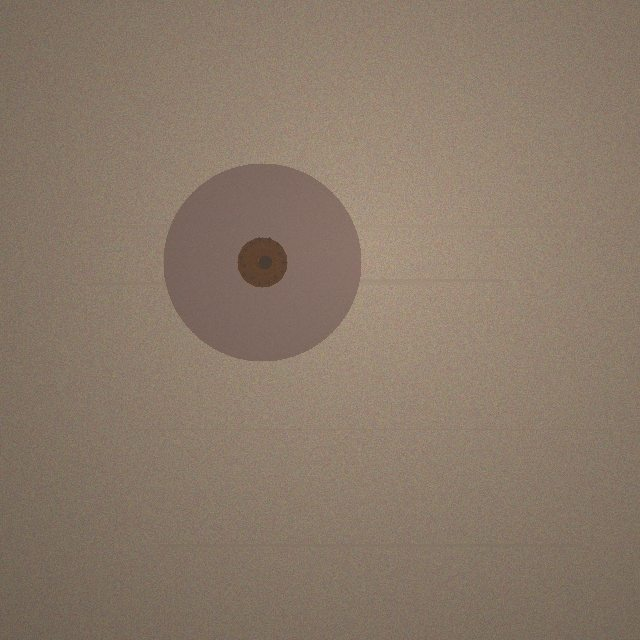cold_weld: (163, 163, 361, 361)
